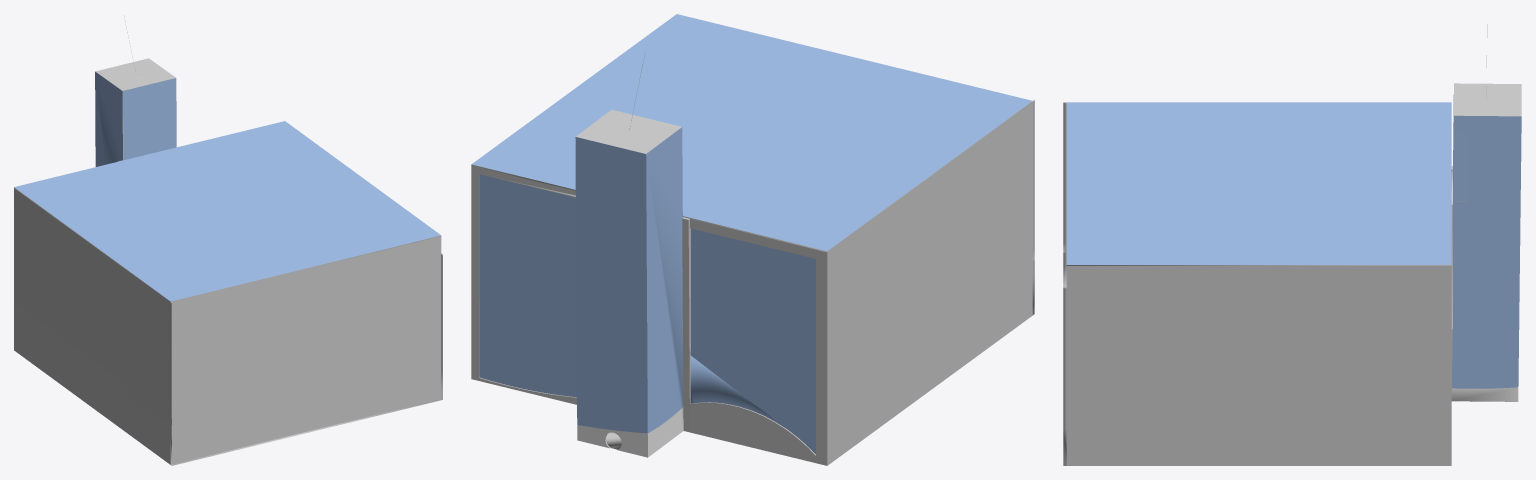
Rendered from CKV_obj3-fix.fbx.
The picture shows the model from 3 angles, left to right: view 1: azimuth 30°, elevation 25°; view 2: azimuth 150°, elevation 25°; view 3: azimuth 270°, elevation 25°; orthographic projection. The views are drawn at different scales.
Parts seen in each view (by area): view 1: Mesh2 Model.001; view 2: Mesh2 Model.001; view 3: Mesh2 Model.001.
Part boxes in pixels (left/top/right/bottom): Mesh2 Model.001: left=14, top=15, right=442, bottom=465; Mesh2 Model.001: left=471, top=14, right=1034, bottom=465; Mesh2 Model.001: left=1063, top=24, right=1521, bottom=465.
Bounding box in the file's own units: 3372 × 3521 × 4015.
